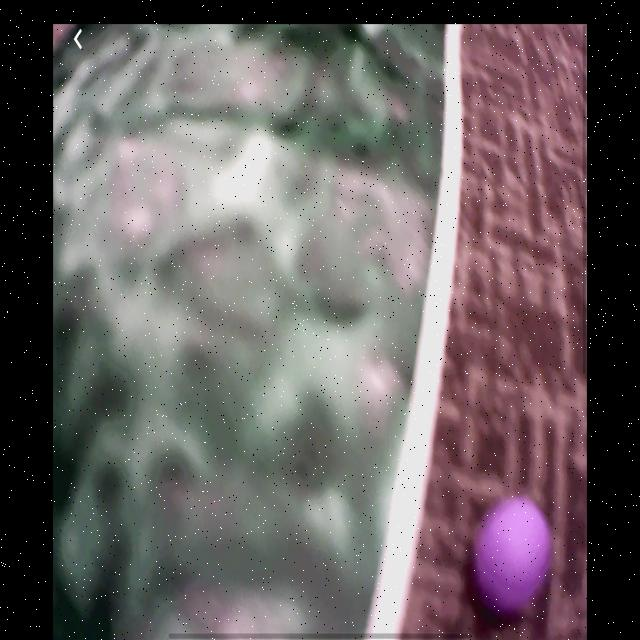ball: (477, 494, 554, 609)
